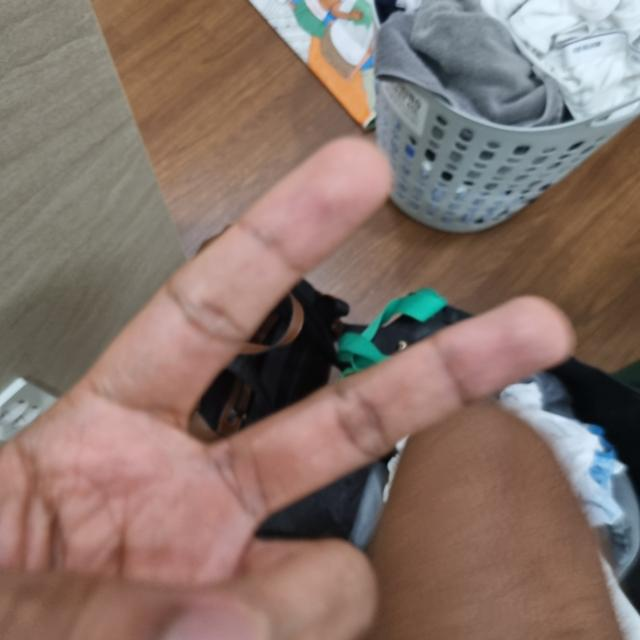Scissors: (0, 130, 571, 638)
